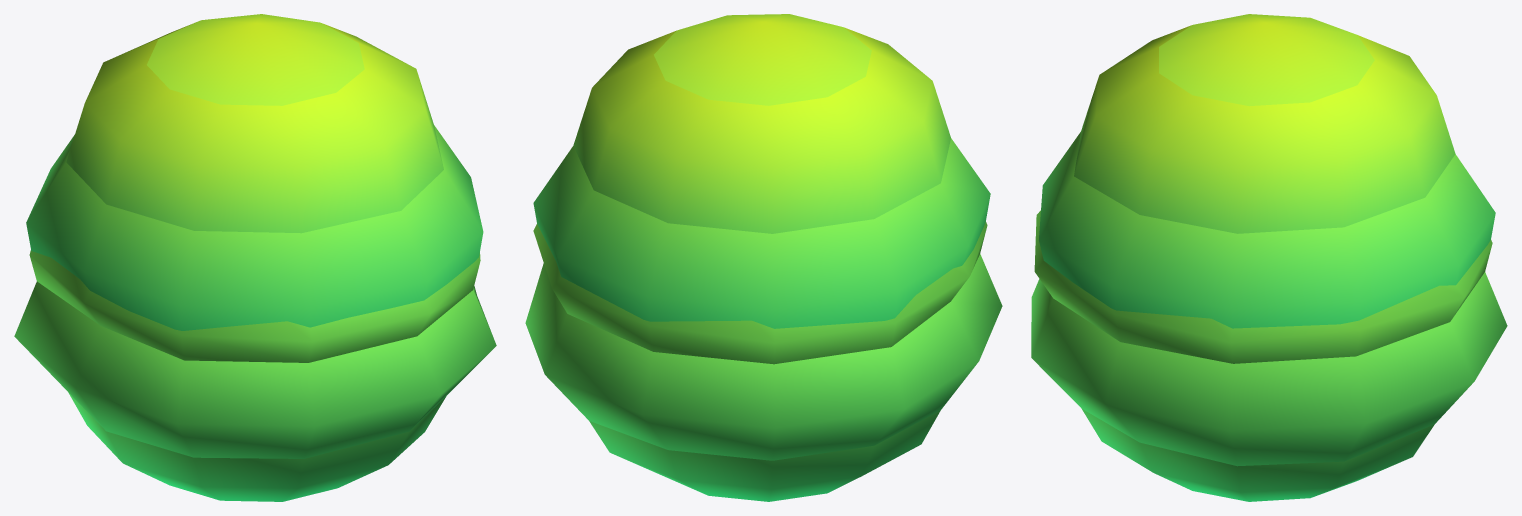
The model's file is Egg_Green.fbx.
3 views of the same model, side by side, from view 1: azimuth 30°, elevation 25°; view 2: azimuth 150°, elevation 25°; view 3: azimuth 270°, elevation 25° (orthographic).
Parts seen in each view (by area): view 1: Egg_Green, Egg_Damaged_Green; view 2: Egg_Green, Egg_Damaged_Green; view 3: Egg_Green, Egg_Damaged_Green.
Part boxes in pixels (box(x1,y1,x2,y2)): Egg_Green: box(26, 14, 483, 330); Egg_Damaged_Green: box(14, 250, 496, 501); Egg_Green: box(533, 14, 990, 328); Egg_Damaged_Green: box(525, 221, 1002, 501); Egg_Green: box(1039, 14, 1495, 328); Egg_Damaged_Green: box(1031, 210, 1507, 501).
Bounding box in the file's own units: 2.1 × 2.3 × 2.16.
